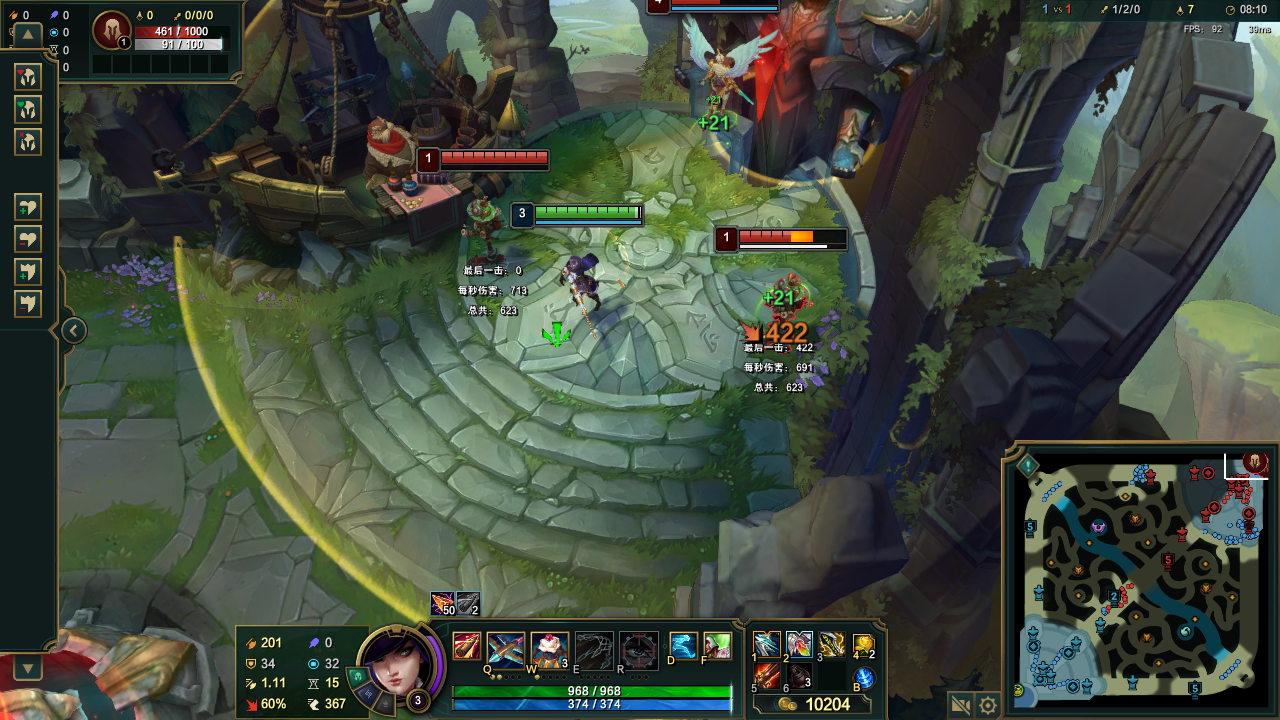DFYX: (436, 149, 550, 163), (737, 230, 851, 242)
